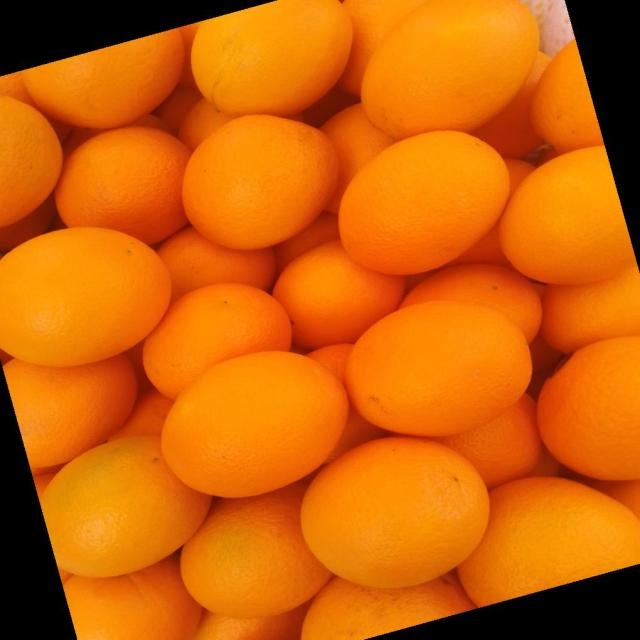agrume: (2, 1, 637, 636), (288, 417, 511, 596), (334, 294, 539, 441), (444, 465, 640, 615), (162, 352, 342, 497), (360, 0, 536, 137), (340, 131, 509, 273), (3, 226, 169, 366), (42, 437, 206, 577), (182, 115, 335, 248), (181, 489, 331, 619), (506, 338, 640, 481), (191, 2, 351, 115), (143, 283, 289, 400), (503, 148, 629, 282), (24, 27, 185, 128), (56, 128, 191, 243), (5, 355, 134, 470), (274, 243, 403, 350), (66, 560, 199, 638), (157, 227, 274, 298)
